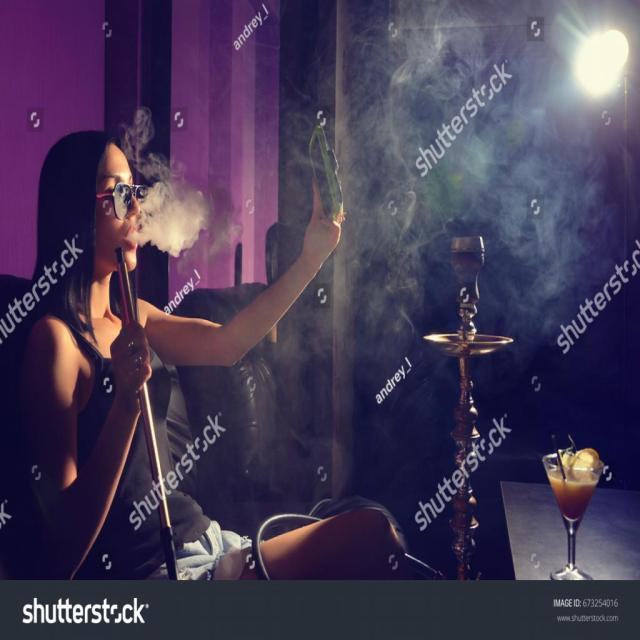smoking: (412, 231, 544, 582), (136, 382, 180, 583), (231, 491, 321, 585), (108, 246, 137, 325)
